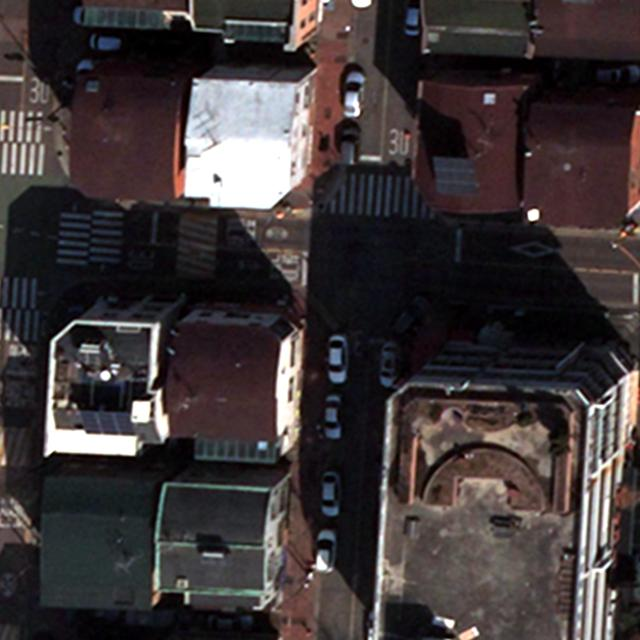panel: (428, 155, 480, 198)
